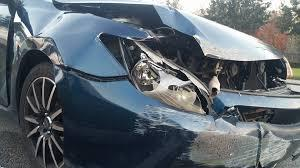Headlight-Damage: (91, 13, 221, 115)
front-bumper-dent: (80, 86, 289, 167)
